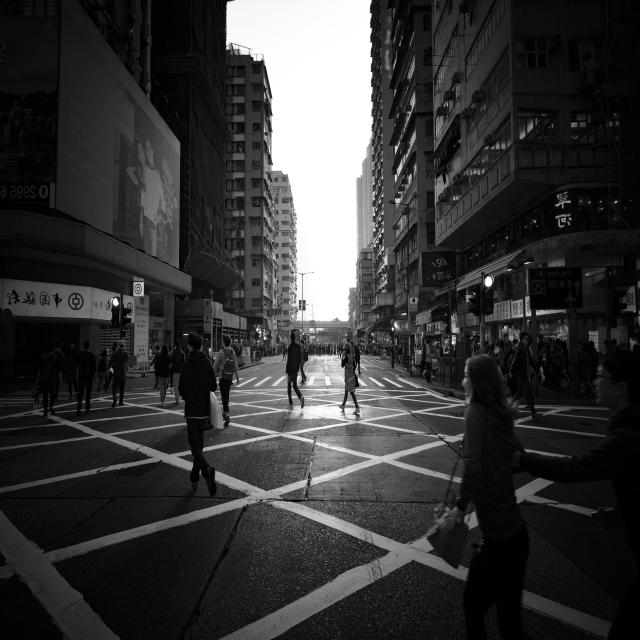adult: (513, 347, 640, 640), (458, 349, 528, 640), (180, 337, 218, 494), (509, 329, 542, 416), (213, 332, 239, 430), (37, 341, 61, 414), (338, 342, 360, 414), (76, 338, 97, 412), (288, 330, 304, 409), (109, 338, 127, 403), (170, 339, 186, 404), (156, 342, 171, 404)
